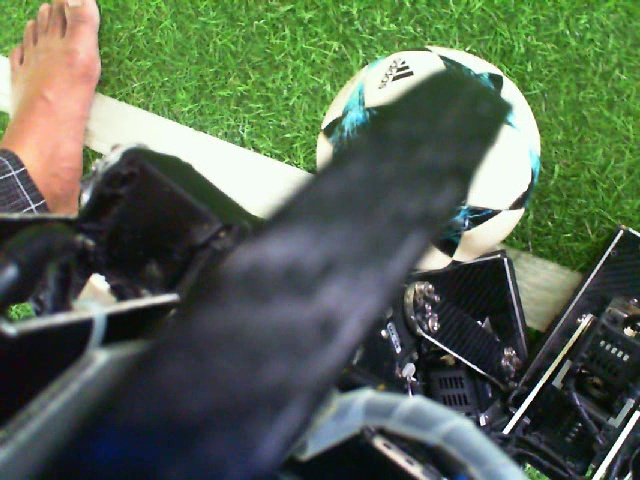ball: (401, 105, 544, 279)
